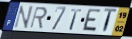7: (51, 5, 67, 32)
E: (81, 8, 103, 33)
N: (12, 5, 34, 29)
R: (29, 6, 48, 30)
T: (103, 8, 118, 35), (68, 9, 83, 31)
